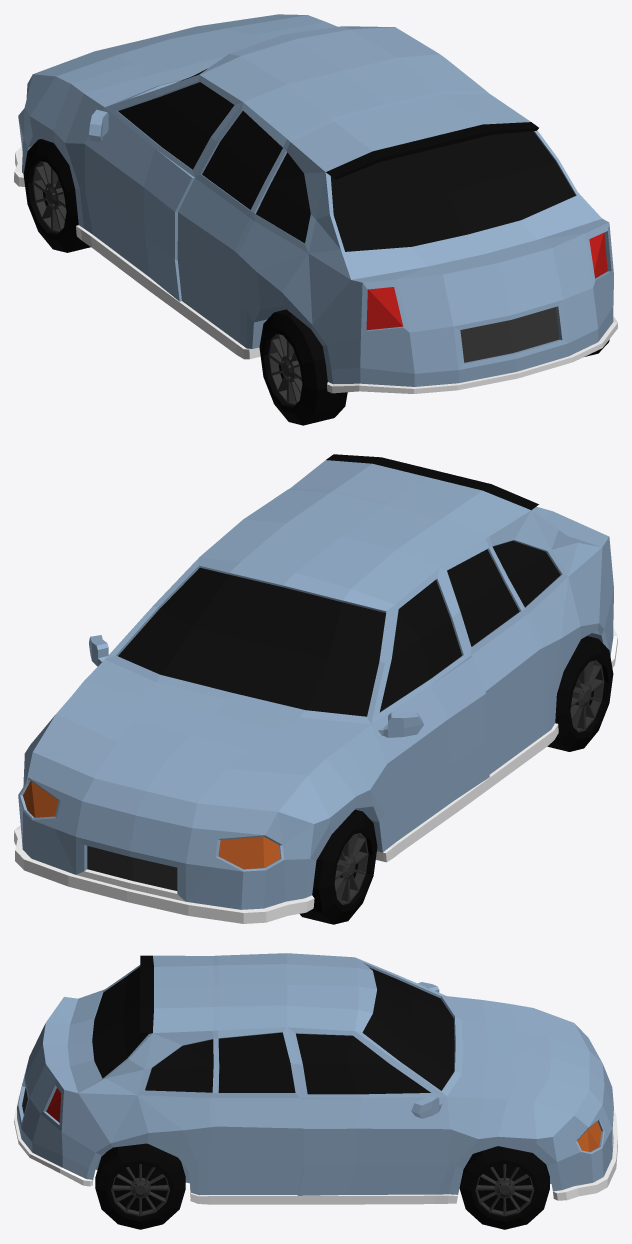
File: NormalCar2.glb
3 views of the same model, one above another, from view 1: azimuth 30°, elevation 25°; view 2: azimuth 150°, elevation 25°; view 3: azimuth 270°, elevation 25° (orthographic). The views are drawn at different scales.
Visible parts, largest first — view 1: NormalCar2, NormalCar2_BackWheels, NormalCar2_FrontLeftWheel; view 2: NormalCar2, NormalCar2_FrontLeftWheel, NormalCar2_BackWheels; view 3: NormalCar2, NormalCar2_BackWheels, NormalCar2_FrontRightWheel.
Boxes of the visible parts, <box> form: NormalCar2: <box>14,14,617,393</box>; NormalCar2_BackWheels: <box>259,309,609,425</box>; NormalCar2_FrontLeftWheel: <box>23,139,90,252</box>; NormalCar2: <box>14,454,617,923</box>; NormalCar2_FrontLeftWheel: <box>300,809,377,924</box>; NormalCar2_BackWheels: <box>547,636,613,751</box>; NormalCar2: <box>14,953,617,1204</box>; NormalCar2_BackWheels: <box>95,1143,185,1229</box>; NormalCar2_FrontRightWheel: <box>459,1146,549,1229</box>.
Size of the model in its own units: 1.88 by 1.31 by 3.8.
